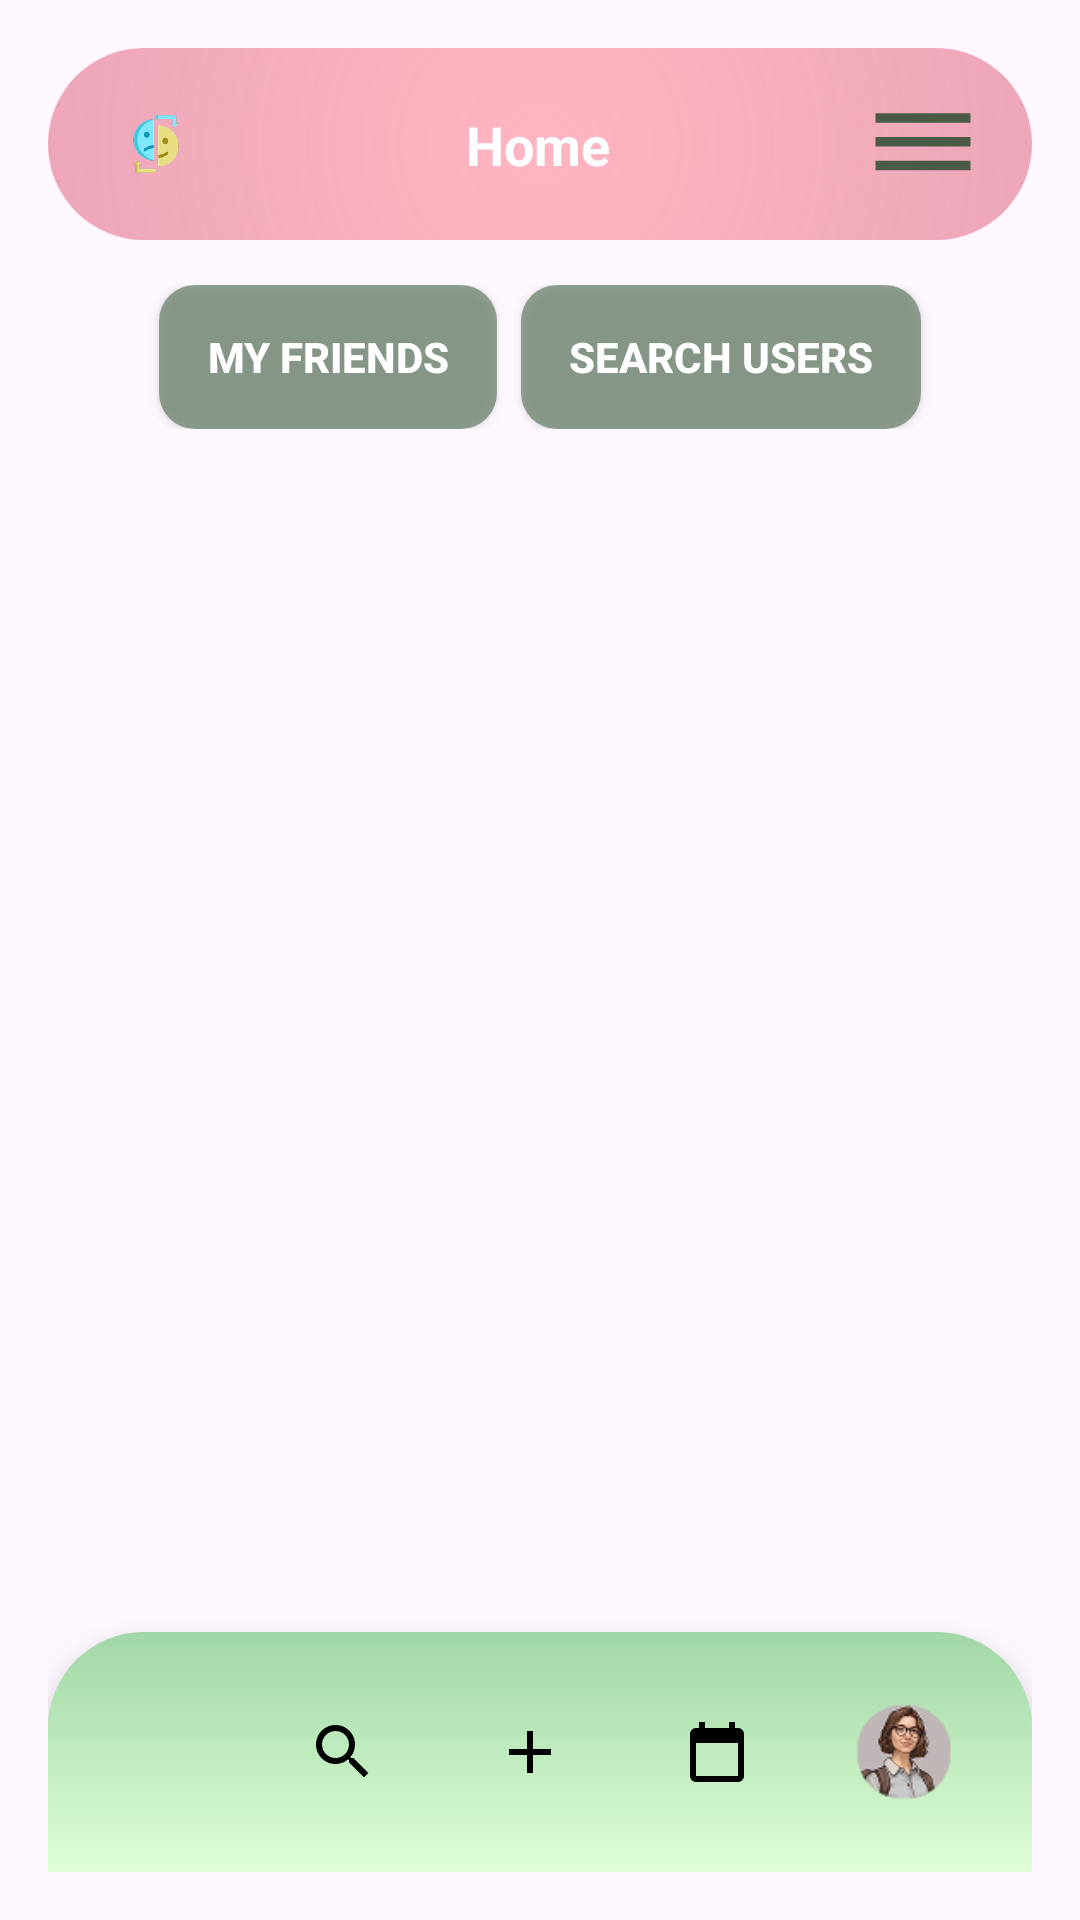

Where to tap for icons on this 1080×1920 app screen, as [x,y]:
menu: [923,142]
